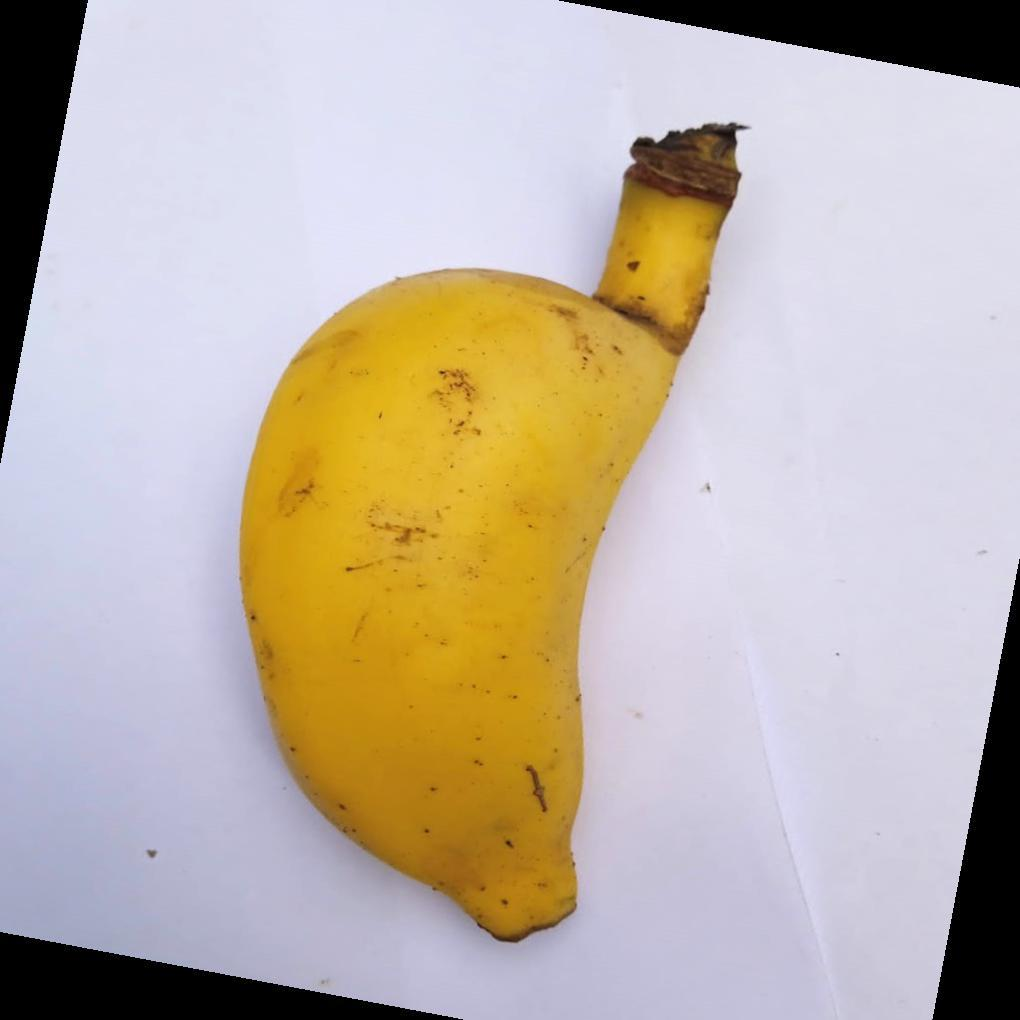Banana Ripe: (235, 140, 732, 996)
